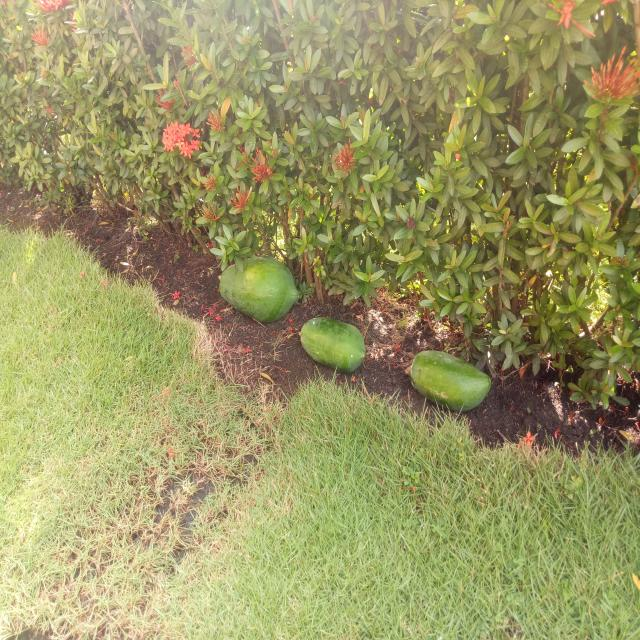Pepaya unrippen: (394, 348, 496, 418), (212, 246, 300, 322), (295, 318, 372, 380)
